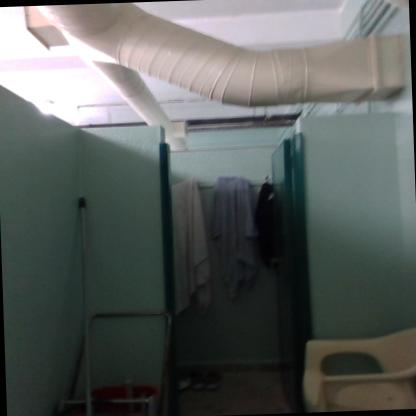open: (149, 115, 323, 399)
